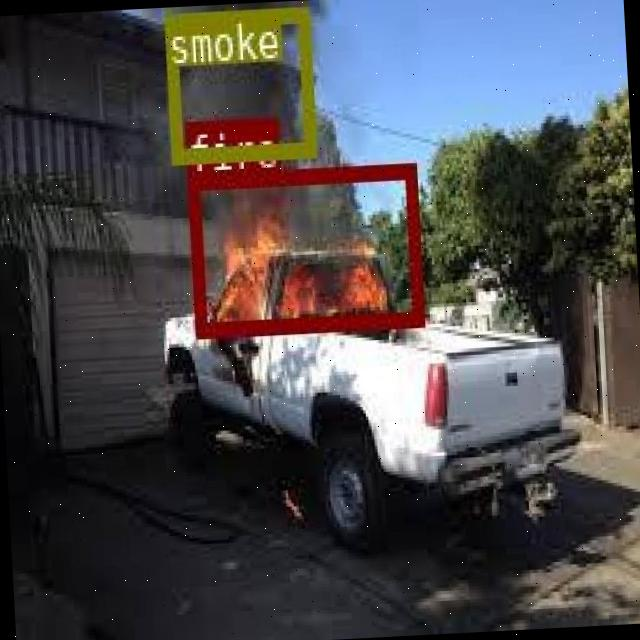fire: (187, 162, 420, 337)
smoke: (164, 5, 312, 160)
